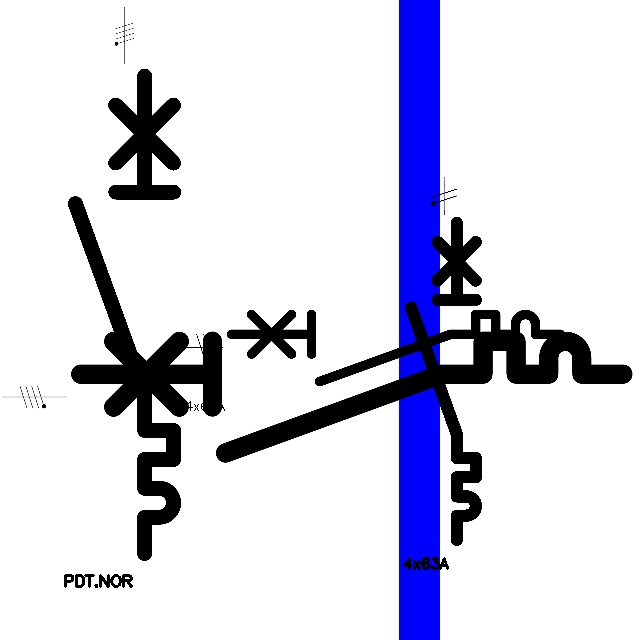interruptor_termomagnetico: (66, 327, 636, 466), (63, 63, 186, 566), (223, 306, 569, 390), (403, 214, 484, 547)
